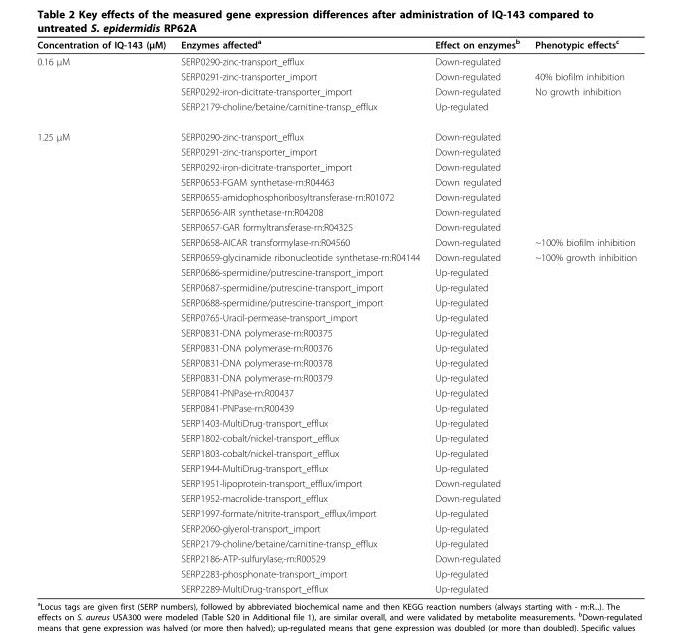table: (36, 37, 636, 593)
table column: (172, 37, 426, 593), (36, 37, 172, 593), (526, 37, 636, 593), (426, 37, 526, 593)
table column header: (36, 37, 636, 52)
table row: (36, 98, 636, 121), (36, 121, 636, 143), (36, 52, 636, 68), (36, 143, 636, 159), (36, 384, 636, 400), (36, 37, 636, 52), (36, 68, 636, 83), (36, 83, 636, 98), (36, 159, 636, 174), (36, 174, 636, 189), (36, 189, 636, 204), (36, 204, 636, 219), (36, 219, 636, 234), (36, 234, 636, 249), (36, 249, 636, 264), (36, 264, 636, 279), (36, 279, 636, 294), (36, 294, 636, 309), (36, 309, 636, 324), (36, 324, 636, 339), (36, 339, 636, 354), (36, 354, 636, 369), (36, 369, 636, 384), (36, 400, 636, 415), (36, 415, 636, 430), (36, 430, 636, 445), (36, 445, 636, 460), (36, 460, 636, 475), (36, 475, 636, 490), (36, 490, 636, 505), (36, 505, 636, 520), (36, 520, 636, 535), (36, 535, 636, 550), (36, 550, 636, 565), (36, 565, 636, 580), (36, 580, 636, 593)
table spanning cell: (36, 121, 172, 593), (36, 52, 172, 121)
